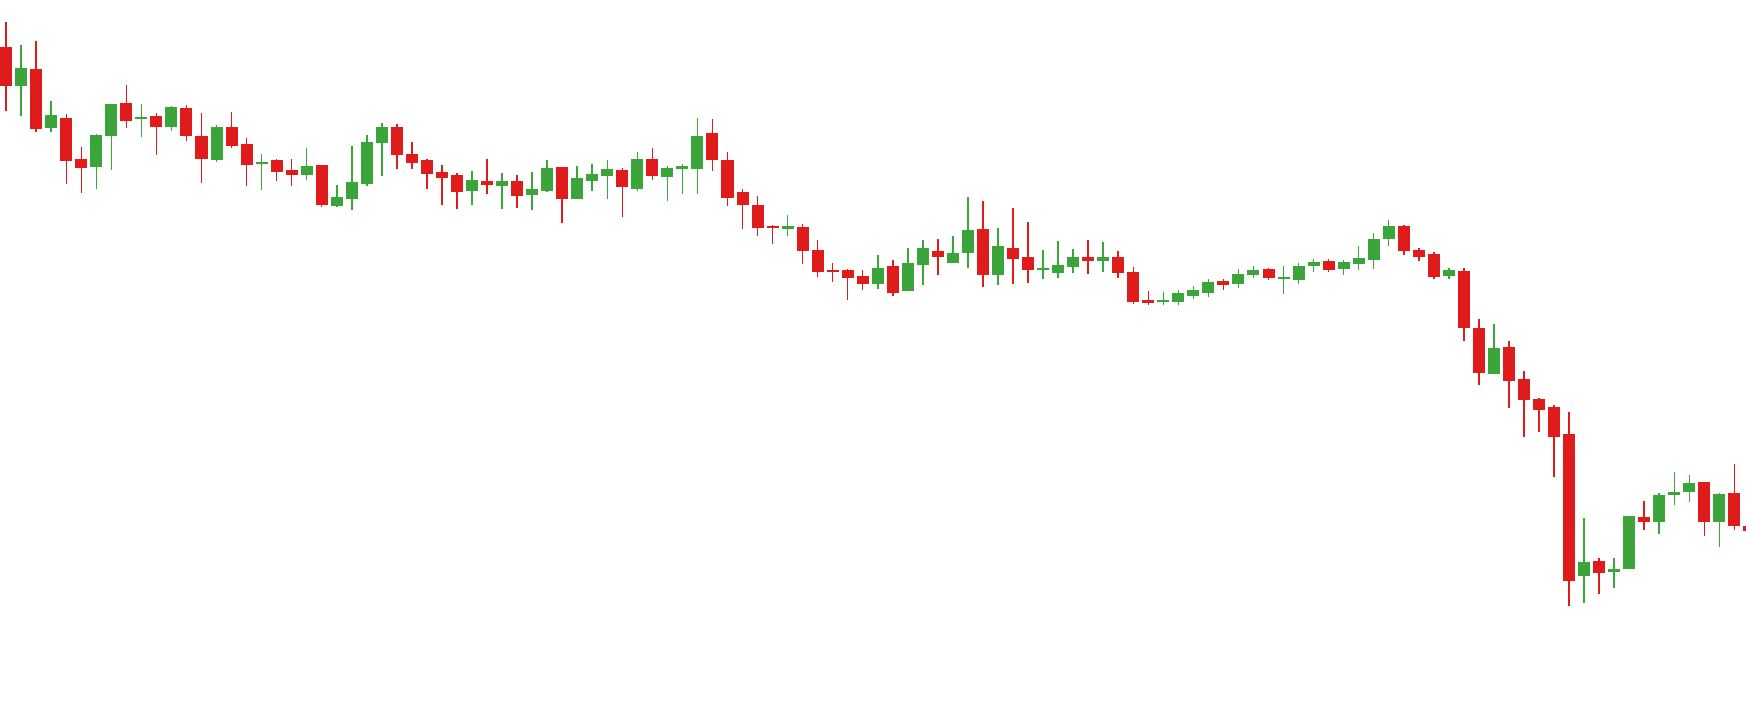sell: (372, 117, 719, 190)
